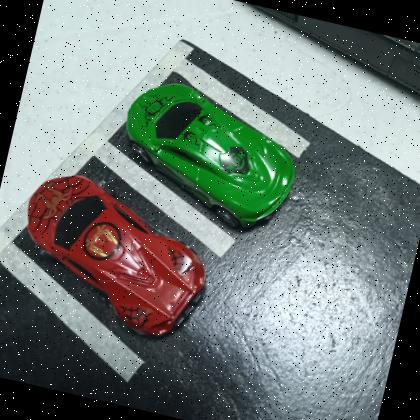Car: (25, 176, 205, 339), (125, 82, 295, 228)
